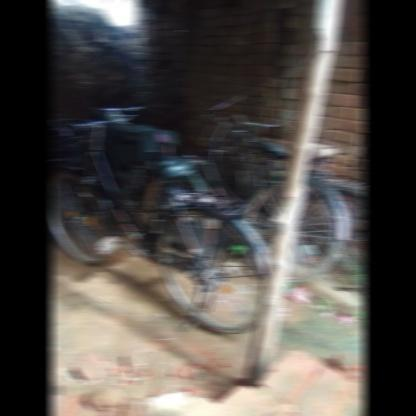Bicycle: (45, 96, 278, 358), (194, 92, 358, 282)
